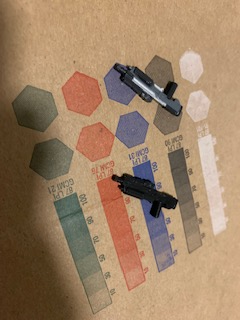rifle: (113, 59, 187, 120), (109, 171, 178, 223)
